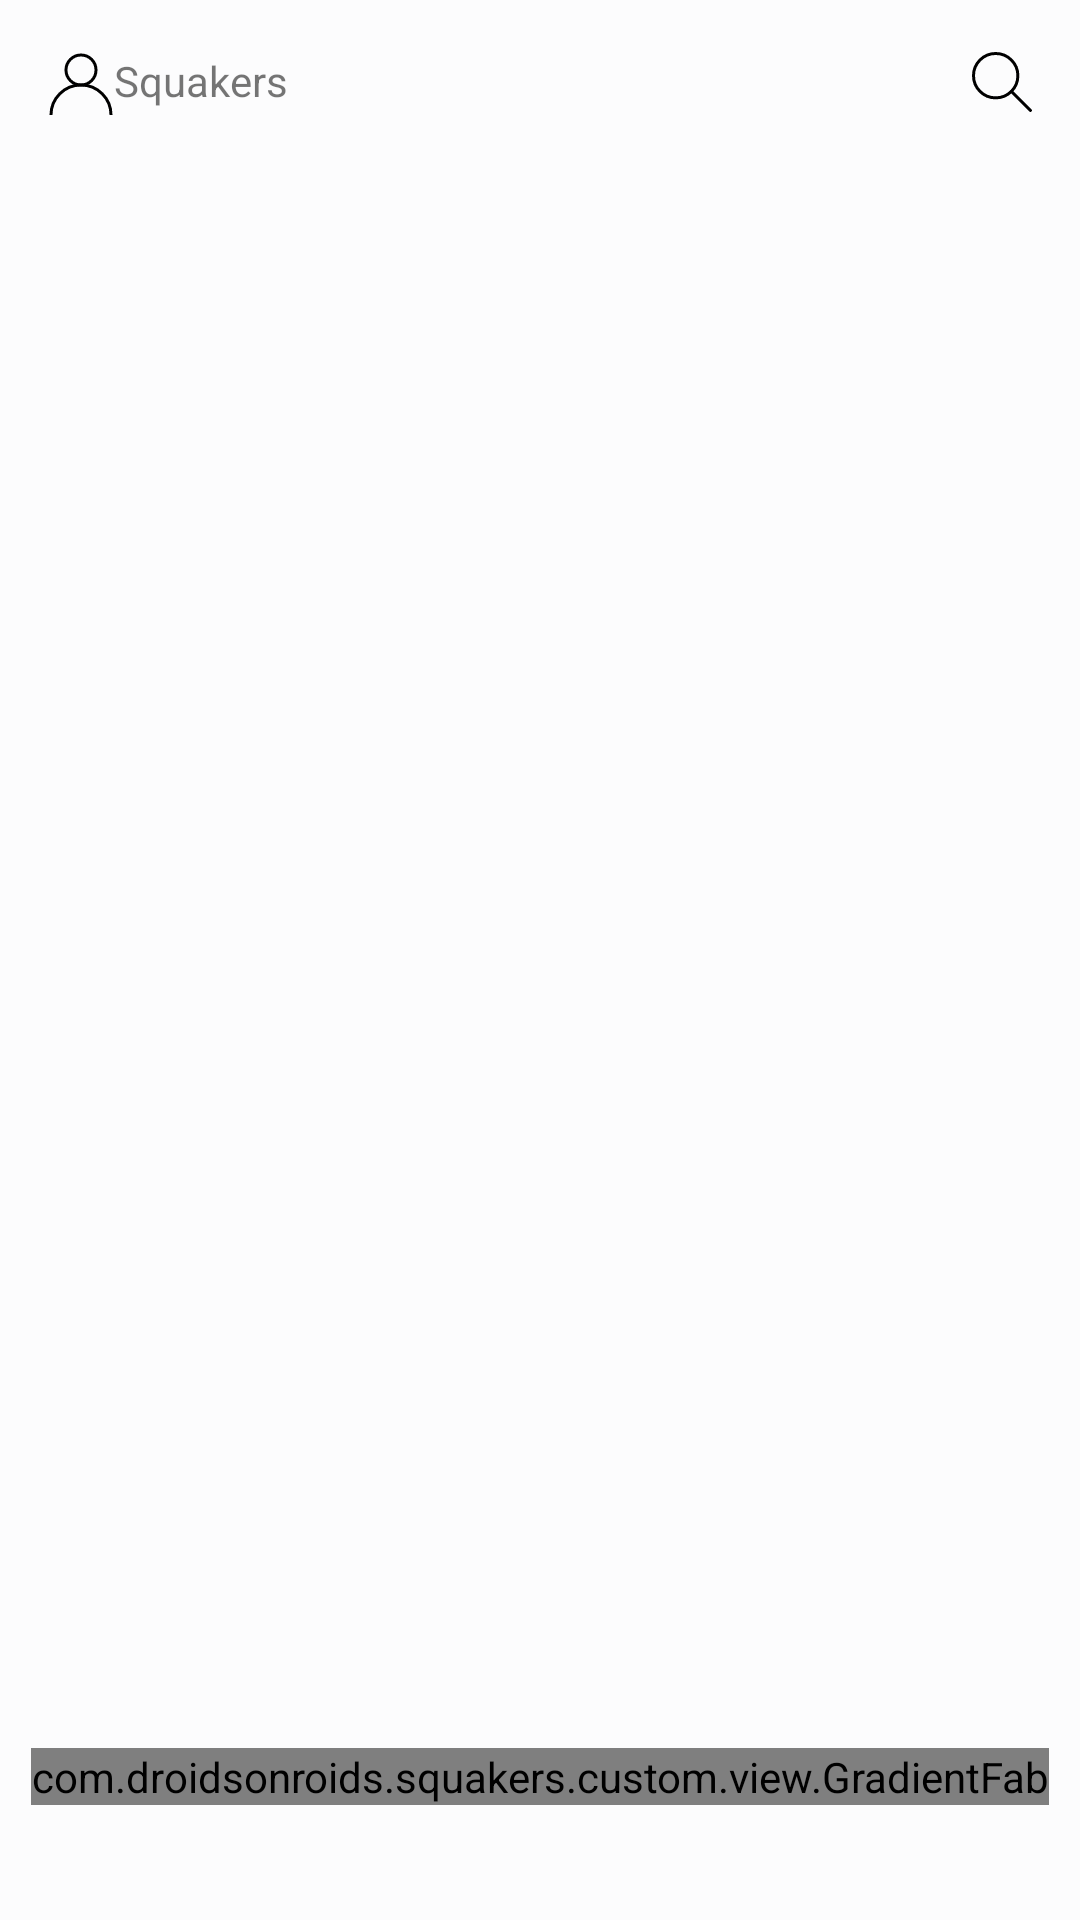

Where icons sit on this 1080×1920 app screen, as (x1, y1, x2, y2):
magnify: (972, 52, 1032, 112)
profile: (49, 53, 113, 115)
